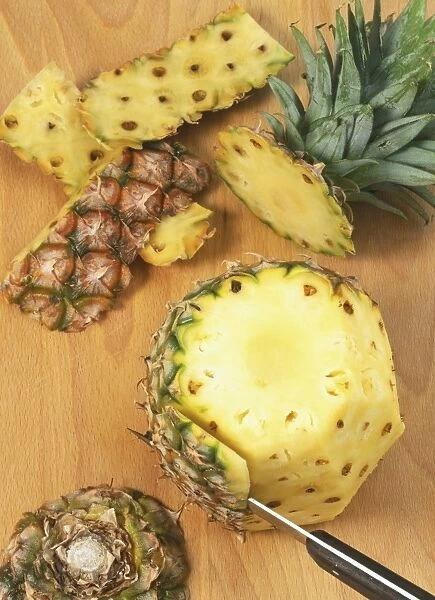organic: (130, 256, 405, 544), (211, 0, 435, 256), (2, 139, 211, 334), (80, 5, 293, 147), (0, 479, 191, 600), (0, 61, 130, 201)
